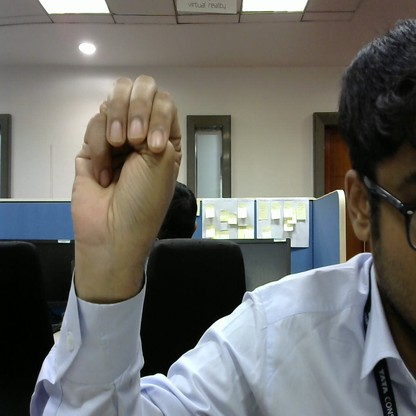m: (64, 71, 185, 261)
